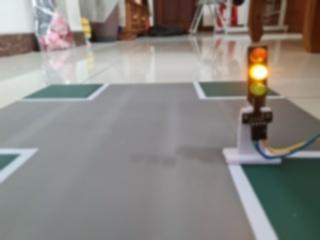yellow: (226, 30, 285, 104)
